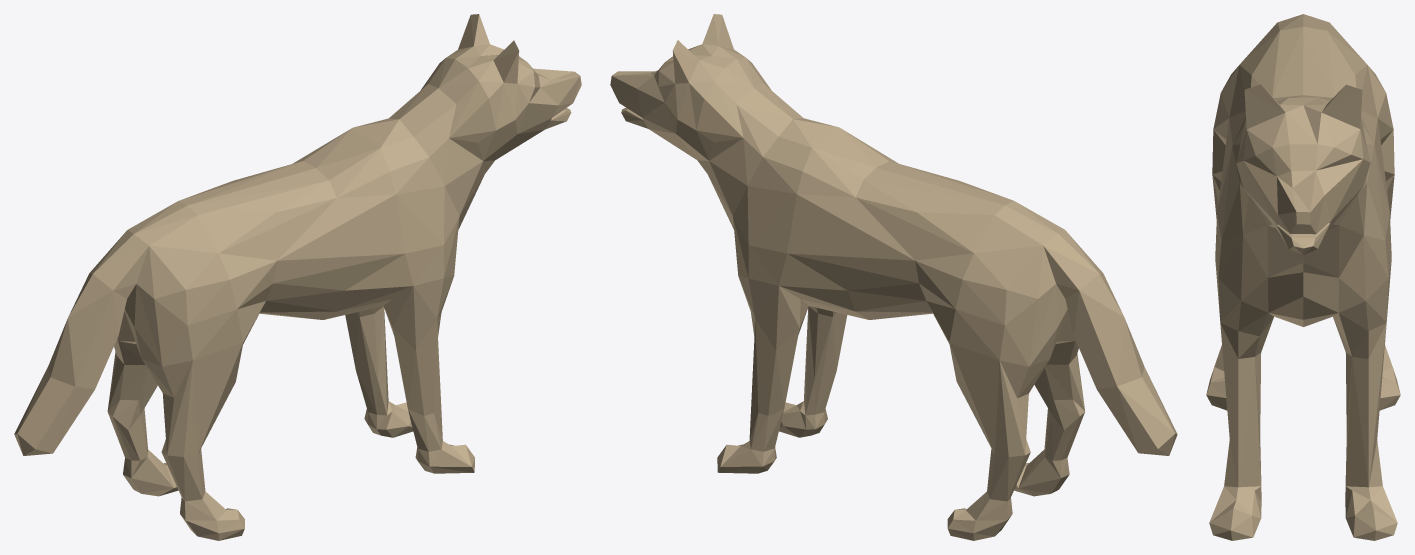
Rendered from animals-wolf-216.glb.
The picture shows the model from 3 angles, left to right: view 1: azimuth 30°, elevation 25°; view 2: azimuth 150°, elevation 25°; view 3: azimuth 270°, elevation 25°; orthographic projection. The views are drawn at different scales.
Visible parts, largest first — view 1: Wolf; view 2: Wolf; view 3: Wolf.
Boxes of the visible parts, x1,y1,x2,y2 form: Wolf: (14, 14, 581, 540); Wolf: (610, 14, 1177, 540); Wolf: (1206, 14, 1400, 540).
Bounding box in the file's own units: 309 × 216 × 76.97.
